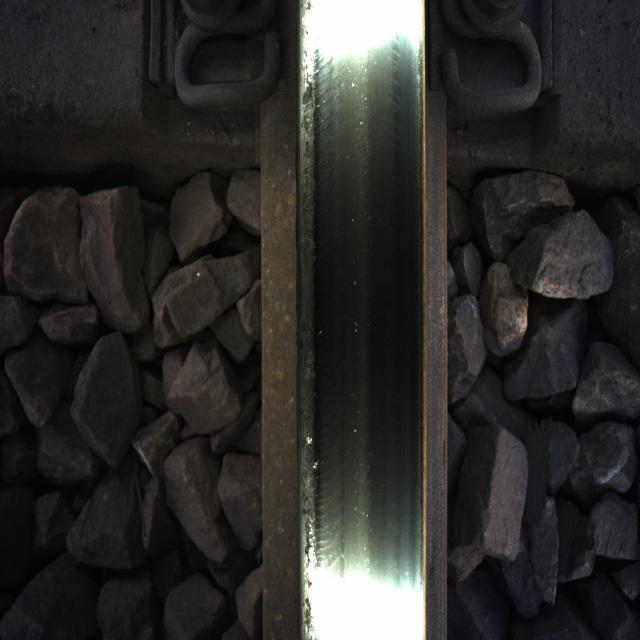normal: (302, 18, 420, 544)
